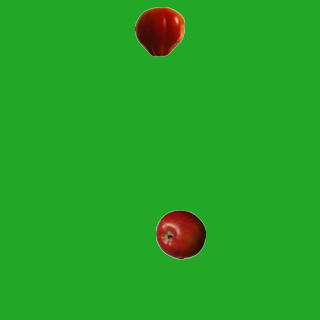Apple Braeburn: (155, 209, 205, 259)
Tomato 1: (134, 6, 184, 56)
